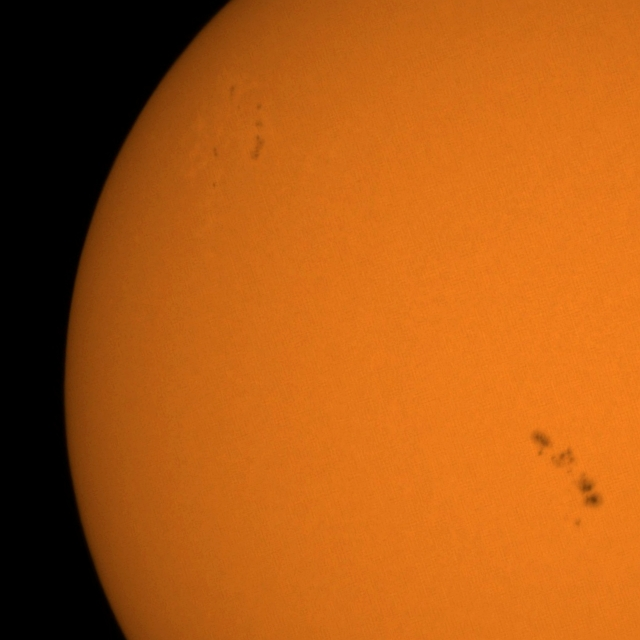sunspot: (536, 437, 578, 478), (576, 471, 601, 510), (530, 430, 554, 460), (248, 133, 266, 162), (253, 102, 265, 132), (212, 146, 219, 159), (255, 102, 263, 112), (210, 180, 218, 189)
